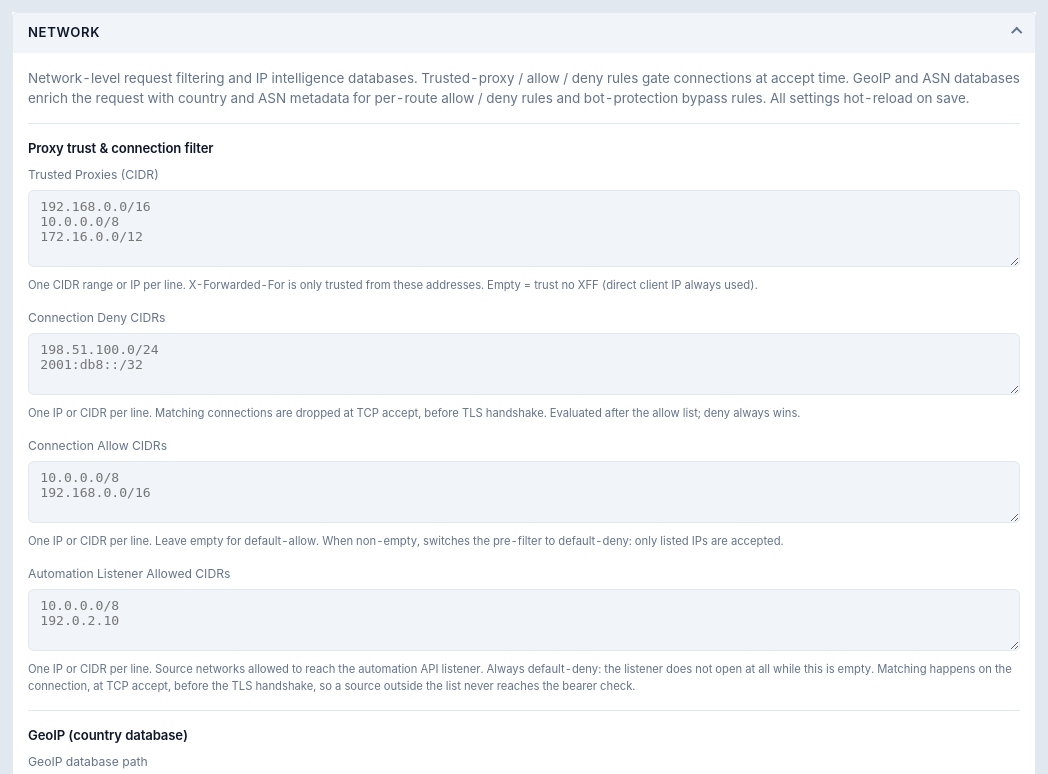
NetworkTab automation allowlist › clears the error once every entry parses
The width and height of the screenshot is (1048, 774).
Type "not-a-cidr" into the text box labelled "Automation Listener Allowed CIDRs" at (524, 620), box [28,589,1020,651]
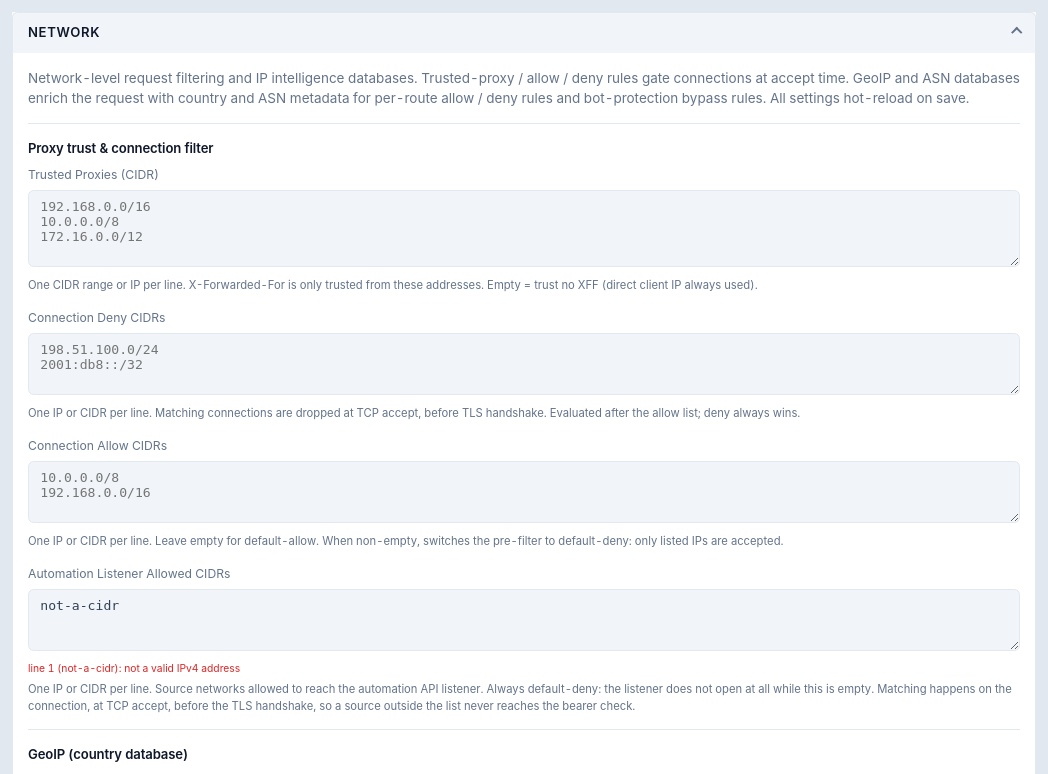
Replace the text in the text box labelled "Automation Listener Allowed CIDRs" with "192.0.2.0/24" at (524, 620), box [28,589,1020,651]
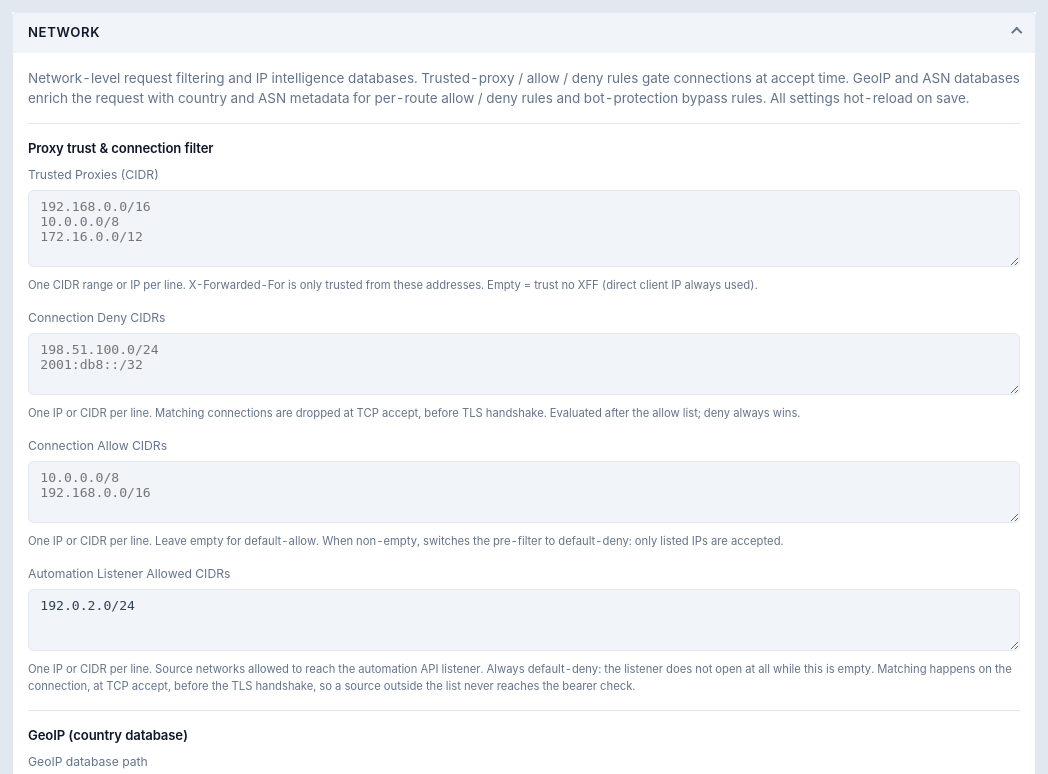
Check: no messages are shown
